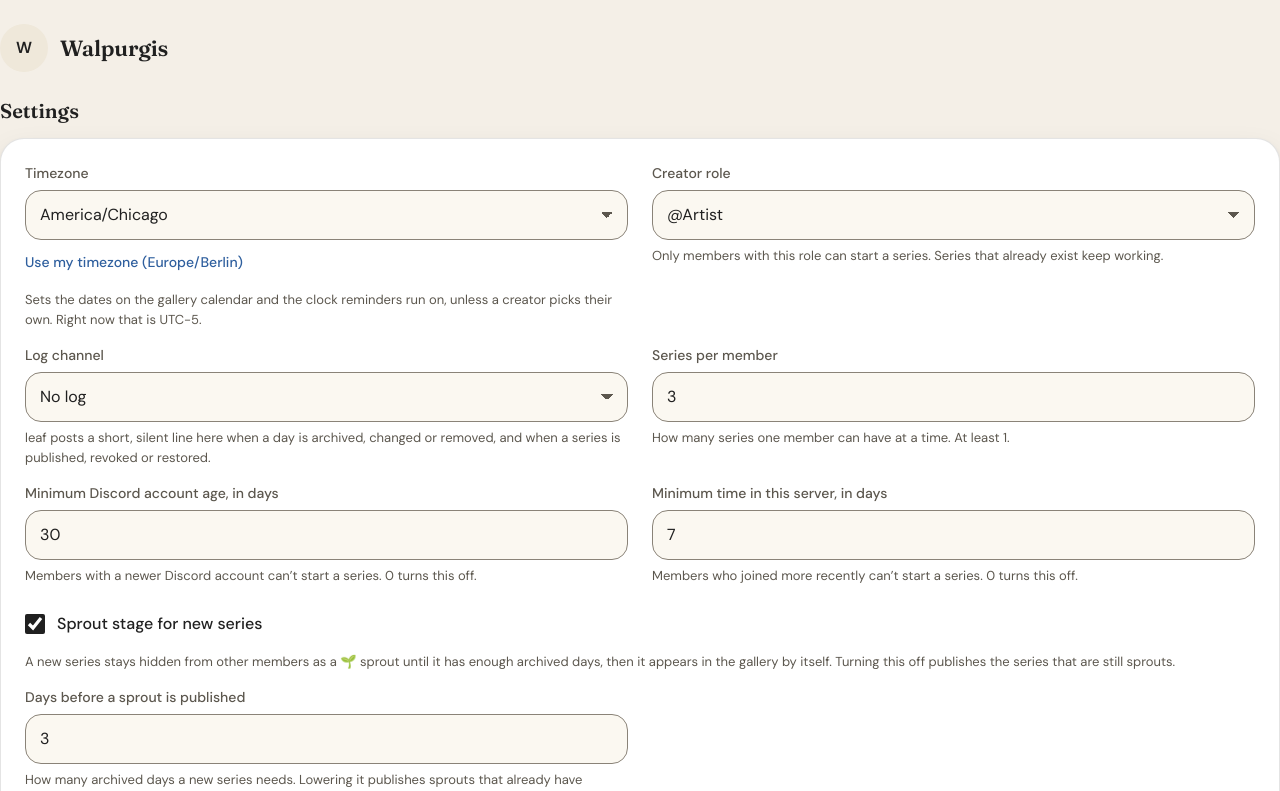
Test: GuildPanel settings › sends only the changed fields, then shows what was stored
Expected: the heading "Settings" is shown, [0, 98, 79, 123]
Replace the text in the field labelled "Series per member" with "05": (954, 397) [652, 372, 1255, 422]
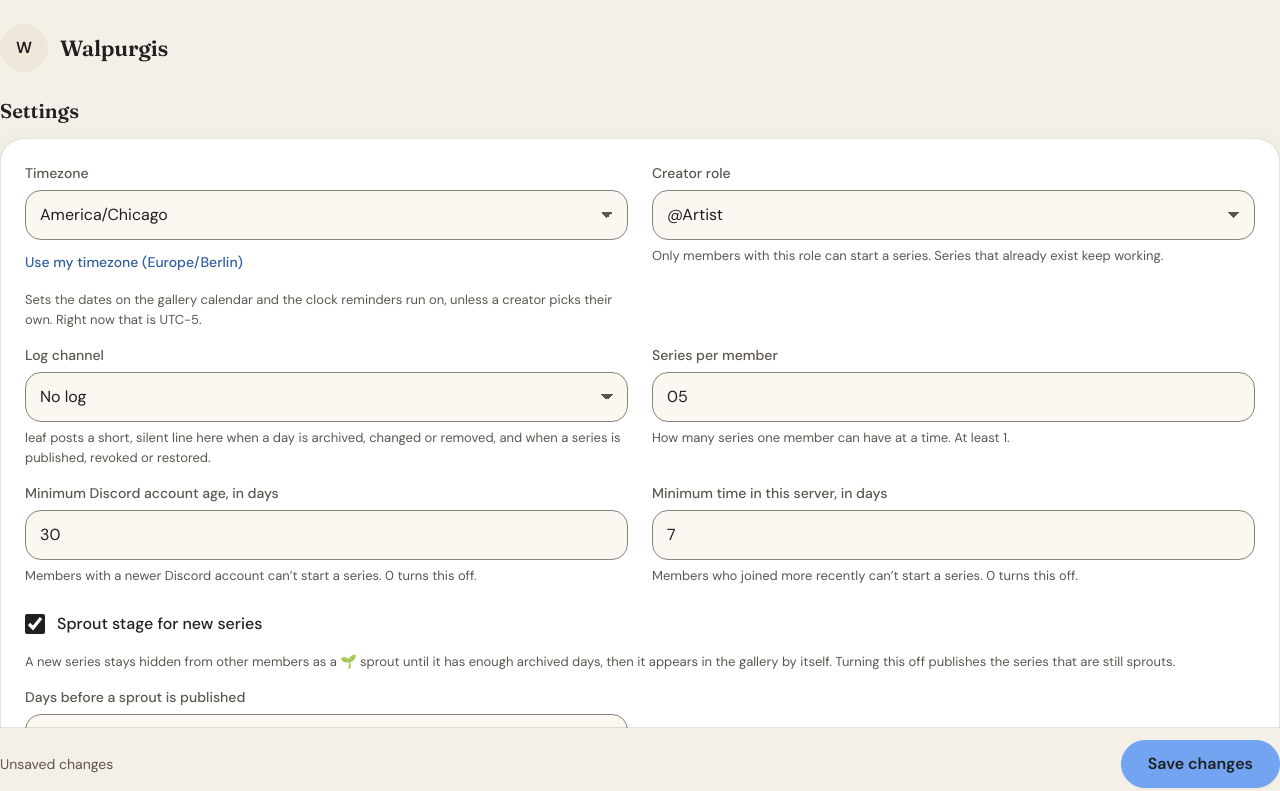
Select "#leaf-log" in the dropdown labelled "Log channel": (326, 397) [25, 372, 628, 422]
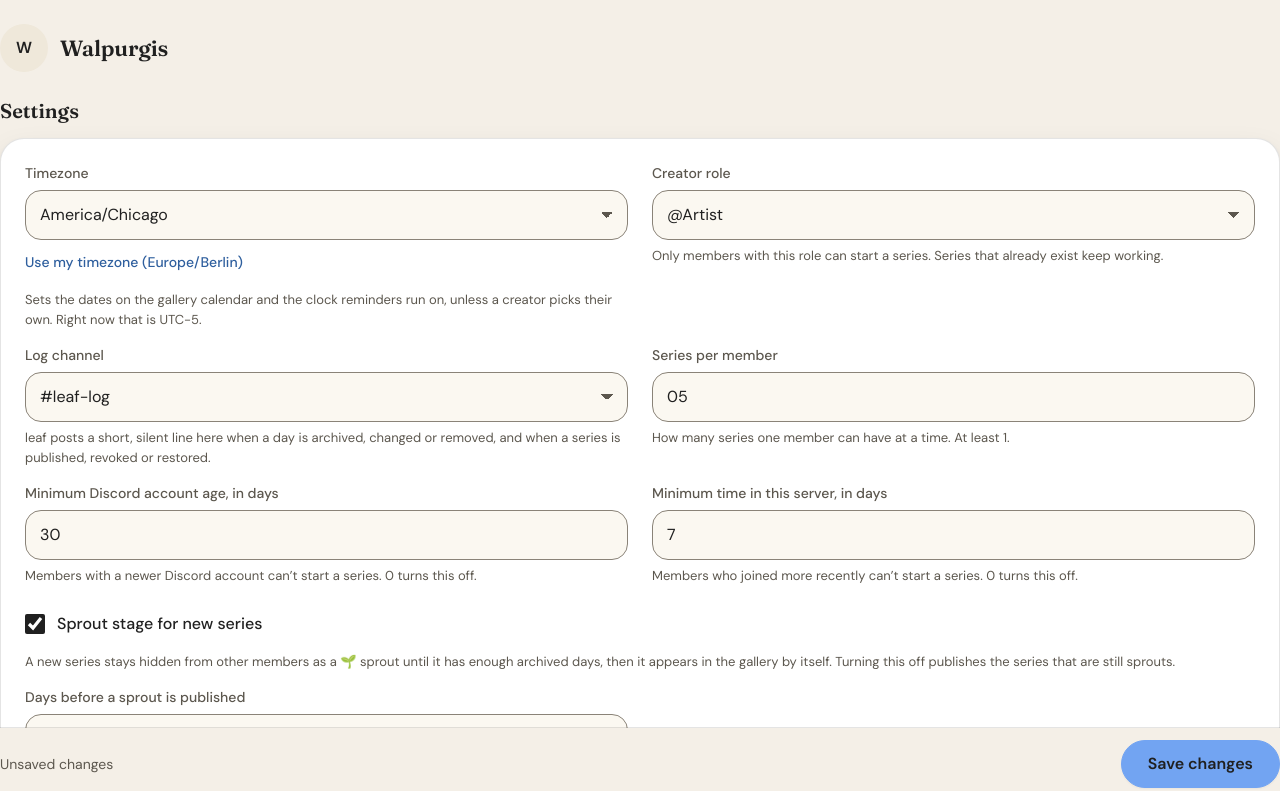
Click the button "Save changes": (1200, 764) [1121, 740, 1279, 788]
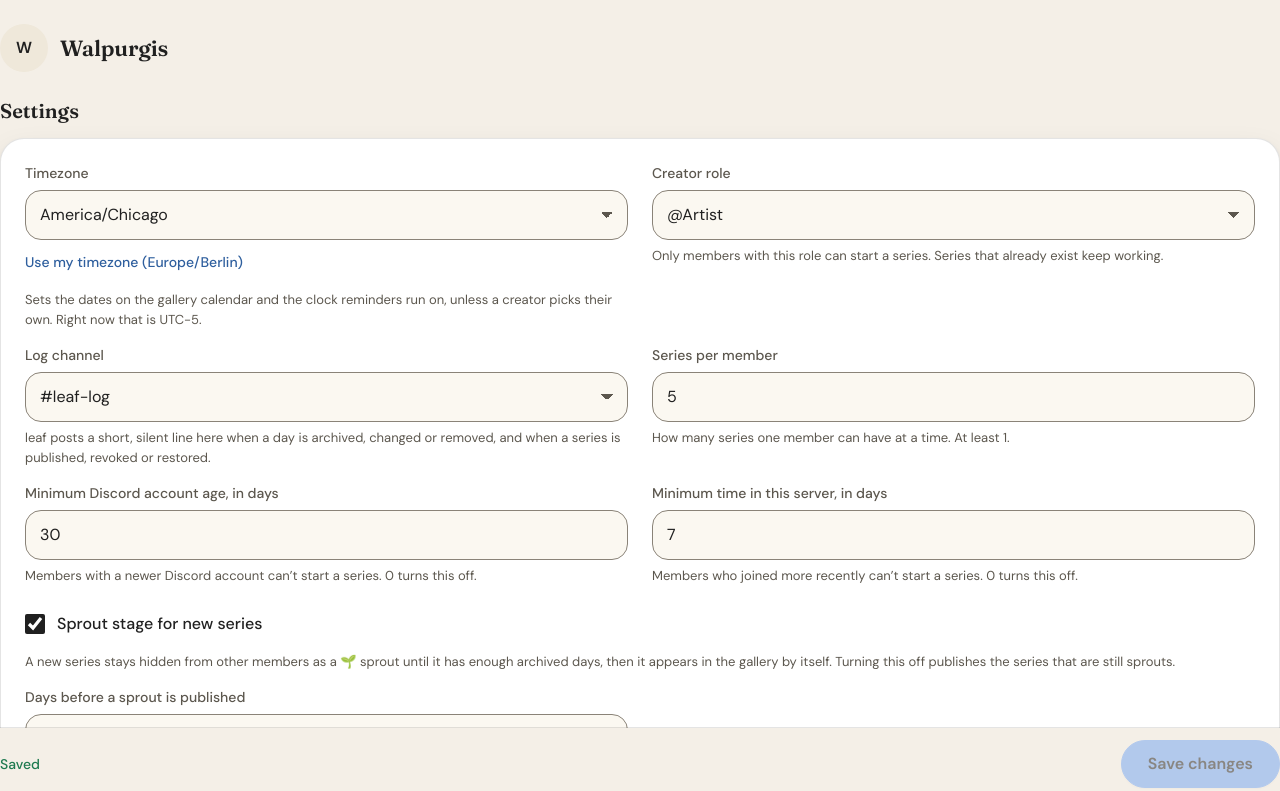
Expected: the text "Saved" is shown, [0, 754, 40, 774]
Expected: the field labelled "Series per member" holds "5", [652, 372, 1255, 422]
Expected: the button "Save changes" is disabled, [1121, 740, 1279, 788]
